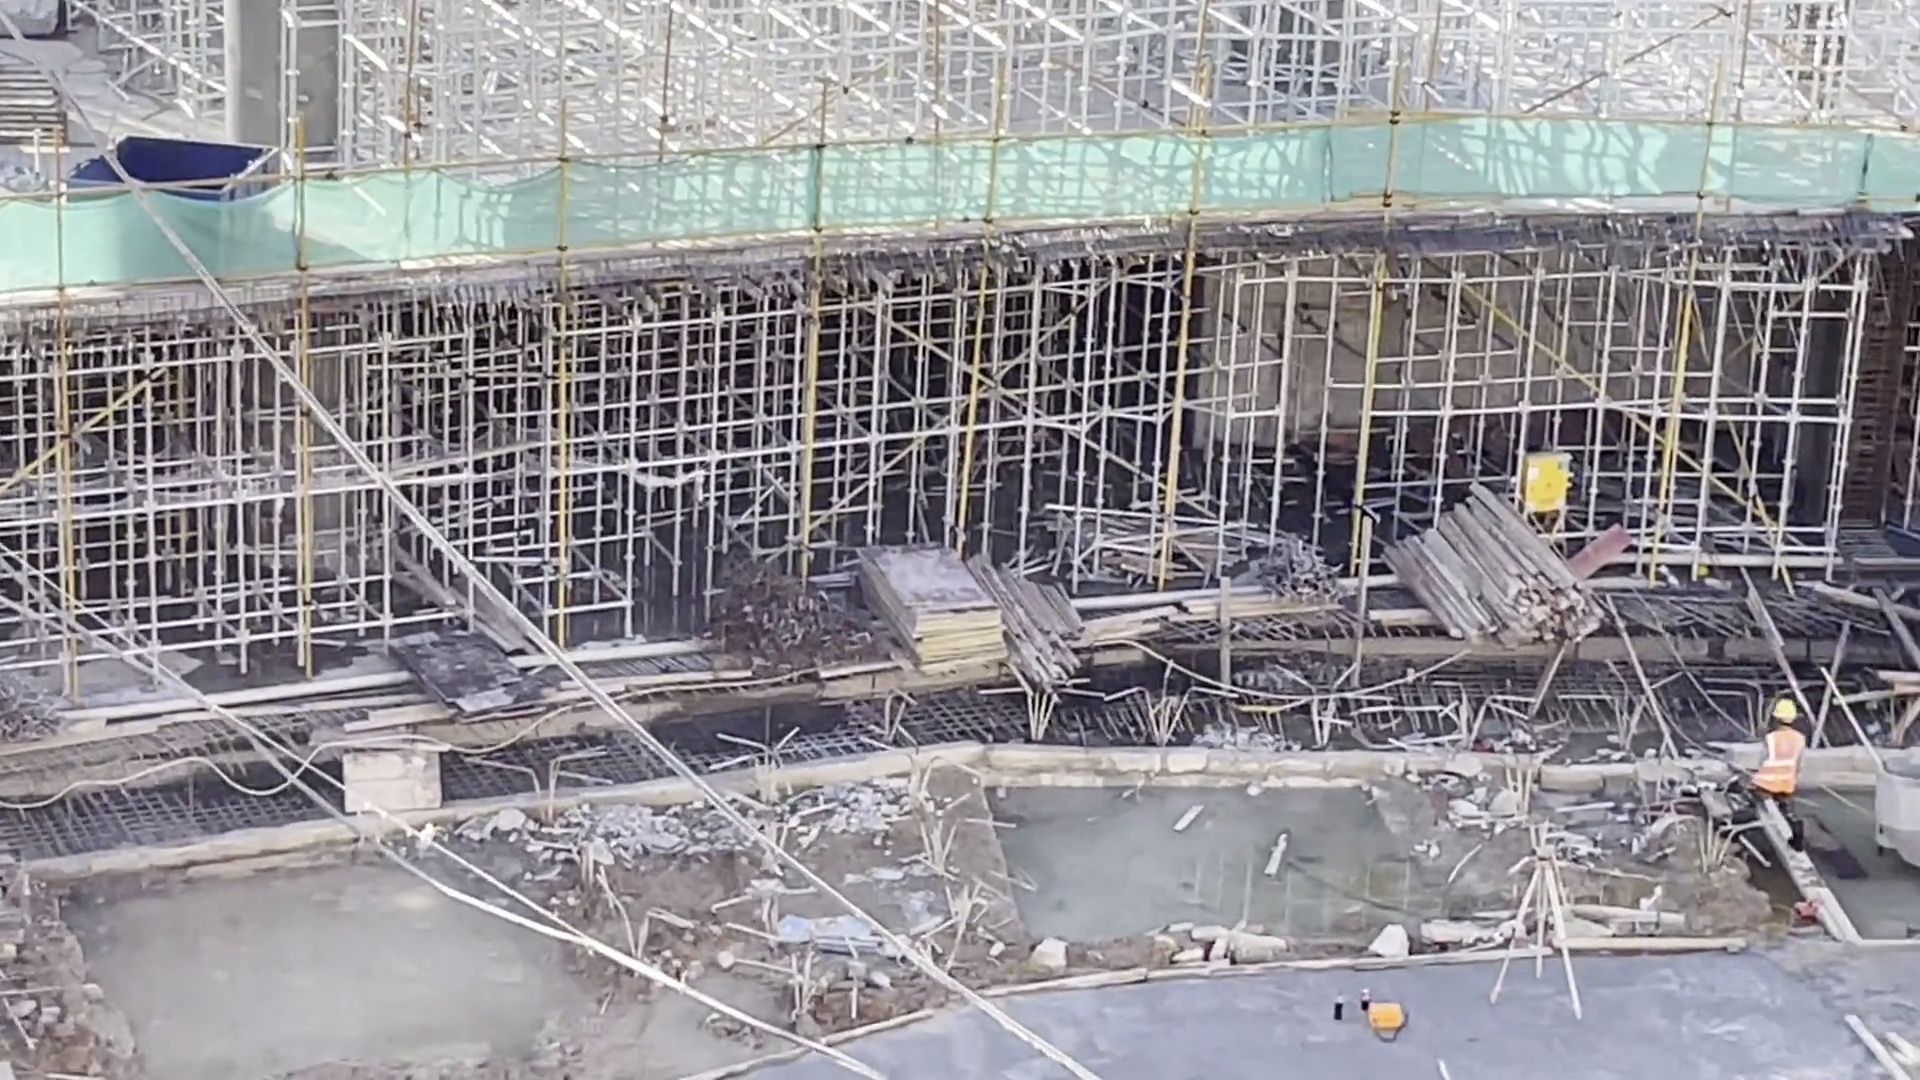board: (860, 534, 1005, 688)
ebox: (1508, 453, 1569, 536)
helmet: (1773, 700, 1799, 720)
hopper: (69, 133, 304, 201), (1869, 743, 1920, 870)
person: (1751, 693, 1813, 832)
vest: (1763, 728, 1804, 798)
wood: (1378, 480, 1604, 655)
